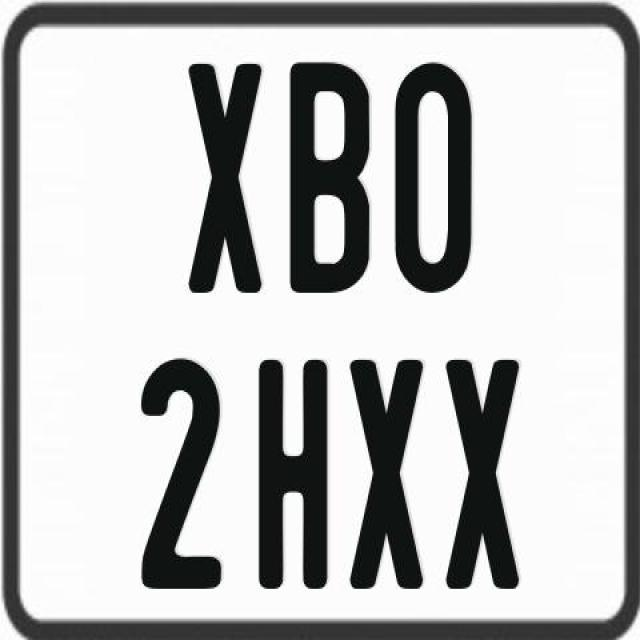0: (393, 61, 471, 292)
2: (141, 356, 223, 594)
B: (290, 63, 374, 294)
H: (258, 358, 328, 597)
X: (350, 357, 426, 590), (446, 358, 518, 597), (185, 59, 258, 288)
